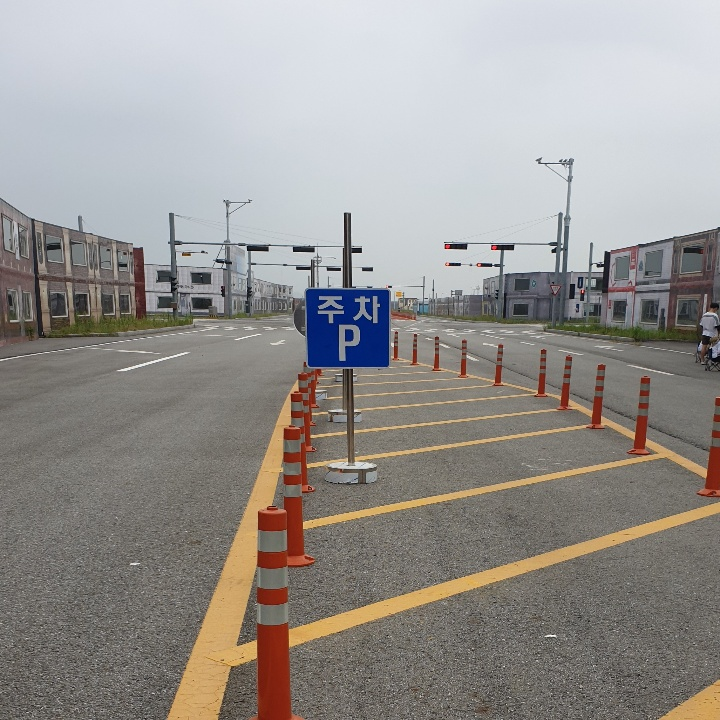parking: (332, 318, 365, 364)
